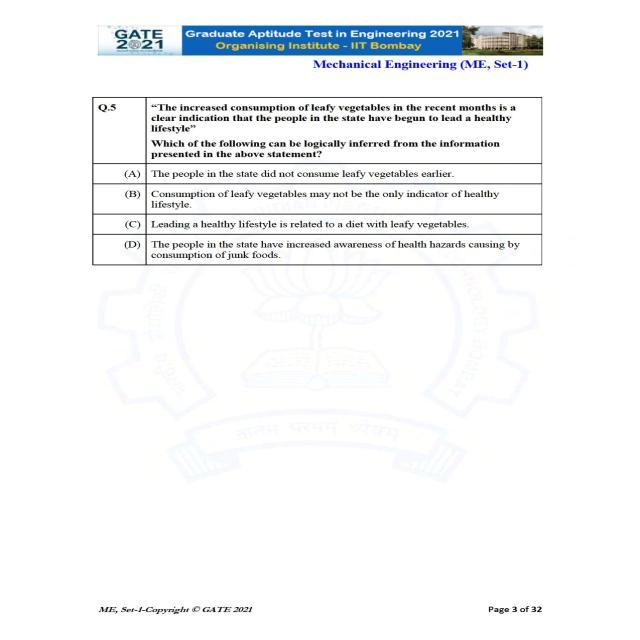Answer_Block: (89, 166, 546, 264)
Question_Answer_Block: (89, 95, 548, 263)
Question_Block: (92, 98, 543, 163)
Question_Paper_Area: (90, 94, 542, 263)
